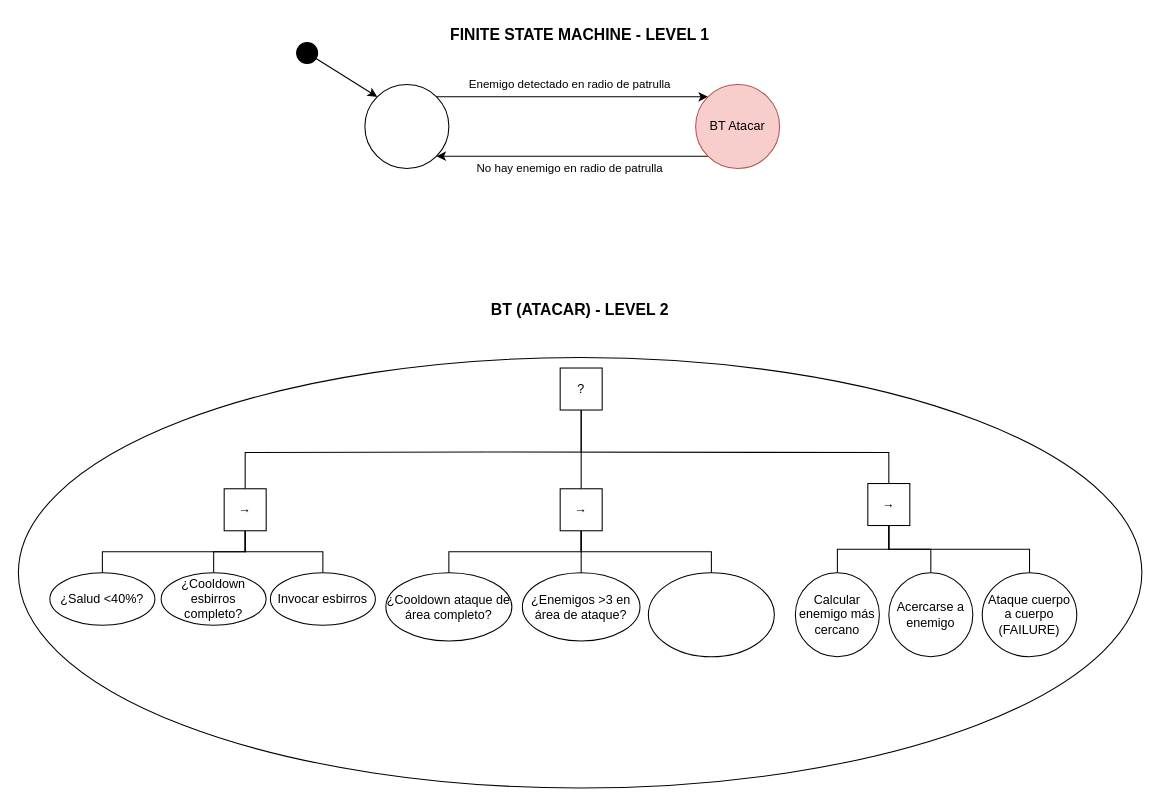
The diagram is 1160 pixels wide and 806 high, and some of its shapes have lost their labels. The shapes that lost their labels are listed below. From the top down, each one's box as (x1, y1, x2, y2) in pixels, then its label:
(364, 83, 449, 169): Patrullar
(647, 572, 774, 657): Ataque de área
